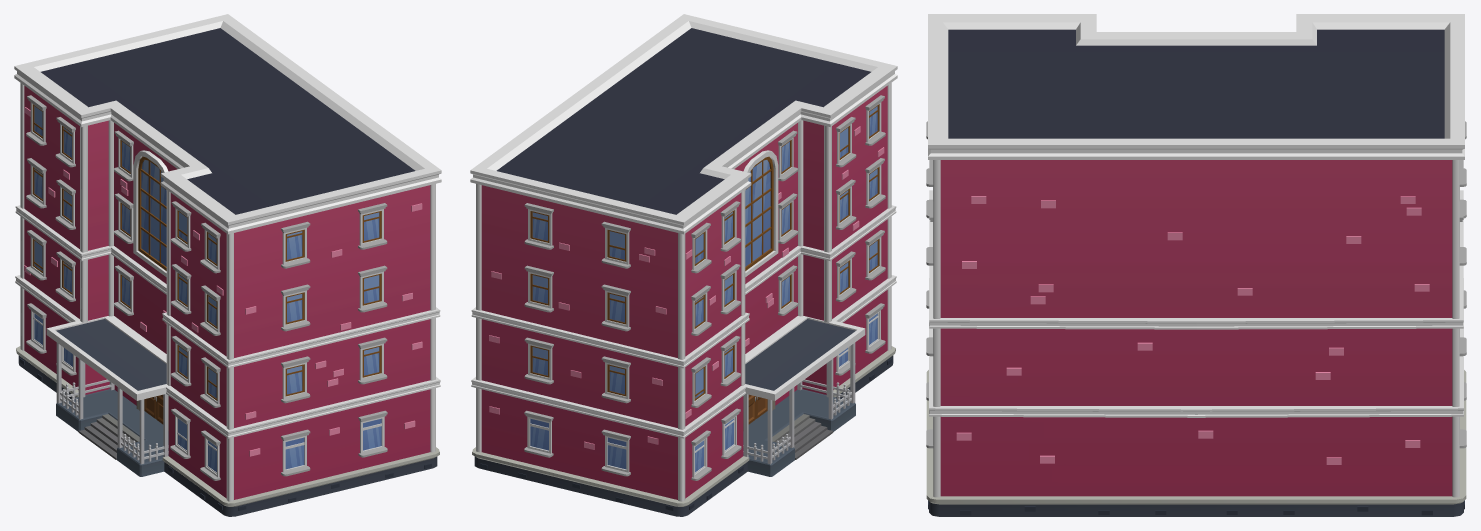
File: Building_5_3_E.fbx
The picture shows the model from 3 angles, left to right: view 1: azimuth 30°, elevation 25°; view 2: azimuth 150°, elevation 25°; view 3: azimuth 270°, elevation 25°; orthographic projection. The views are drawn at different scales.
Parts seen in each view (by area): view 1: Building_5_3_E; view 2: Building_5_3_E; view 3: Building_5_3_E.
Part boxes in pixels (x1=…): Building_5_3_E: x1=14, y1=14, x2=441, y2=516; Building_5_3_E: x1=470, y1=14, x2=897, y2=516; Building_5_3_E: x1=926, y1=14, x2=1466, y2=516.
Size of the model in its own units: 1251 by 1450 by 1908.
